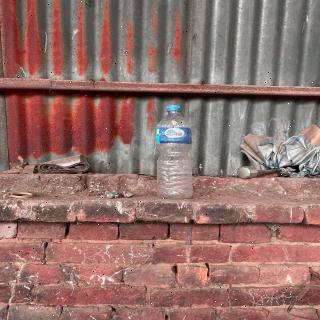Plastic-bottle: (152, 102, 198, 202)
